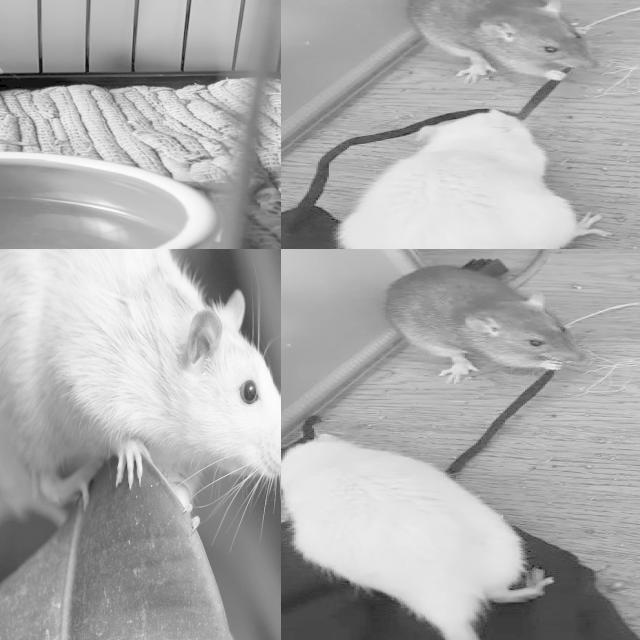rat: (0, 249, 281, 487), (281, 429, 529, 630), (342, 107, 608, 249), (382, 261, 591, 384), (405, 0, 603, 83)
